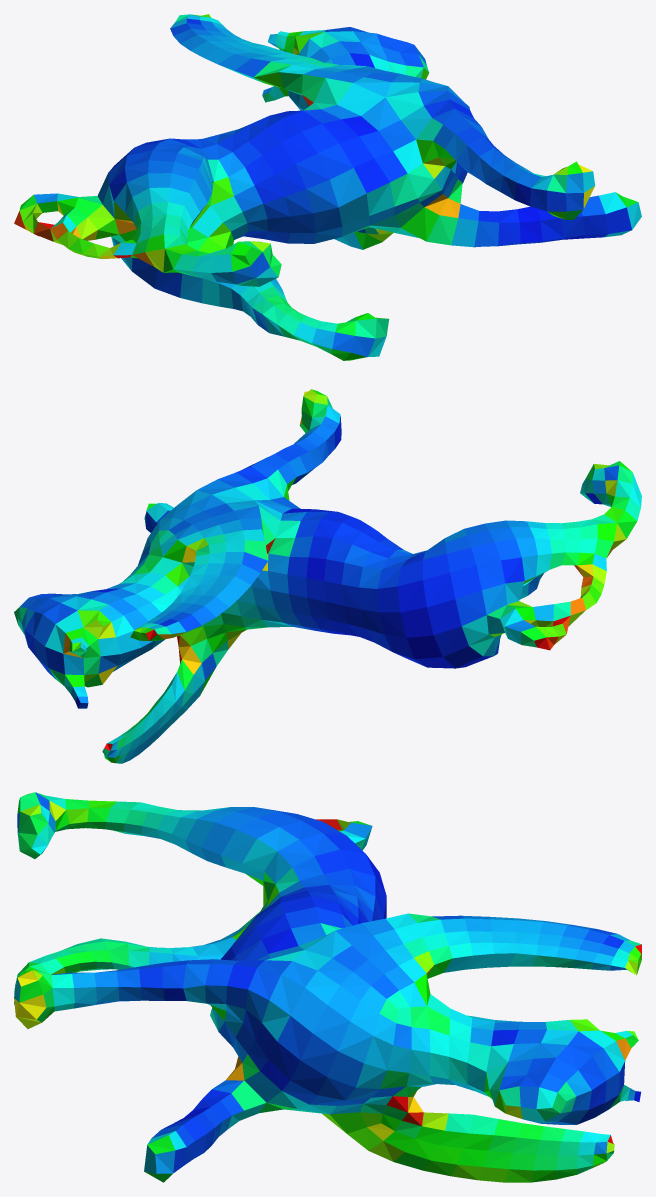
File: feline_opt_quality.obj
3 renders of one model, top to bottom at view 1: azimuth 30°, elevation 25°; view 2: azimuth 150°, elevation 25°; view 3: azimuth 270°, elevation 25°, orthographic. The views are drawn at different scales.
Size of the model in its own units: 131 by 51.06 by 123.
